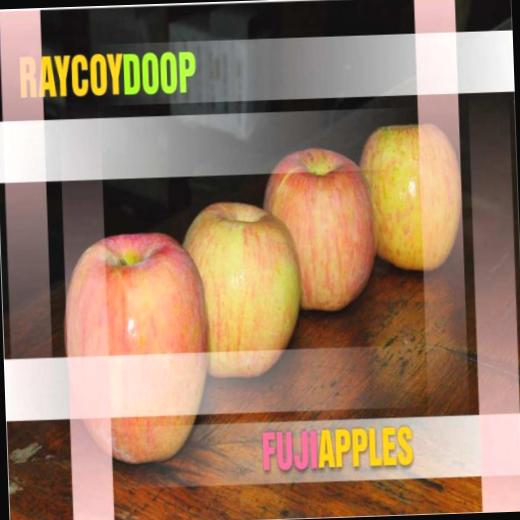Apple: (57, 220, 213, 460), (179, 198, 306, 379), (260, 148, 380, 316), (358, 121, 463, 275)
